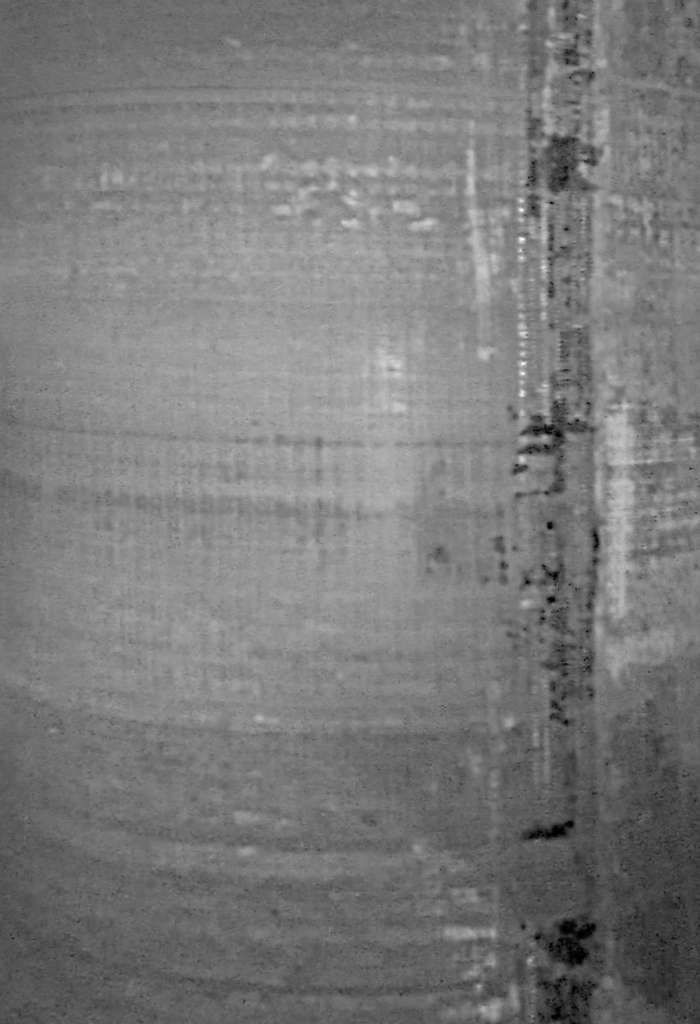splice: (507, 1, 622, 1024)
